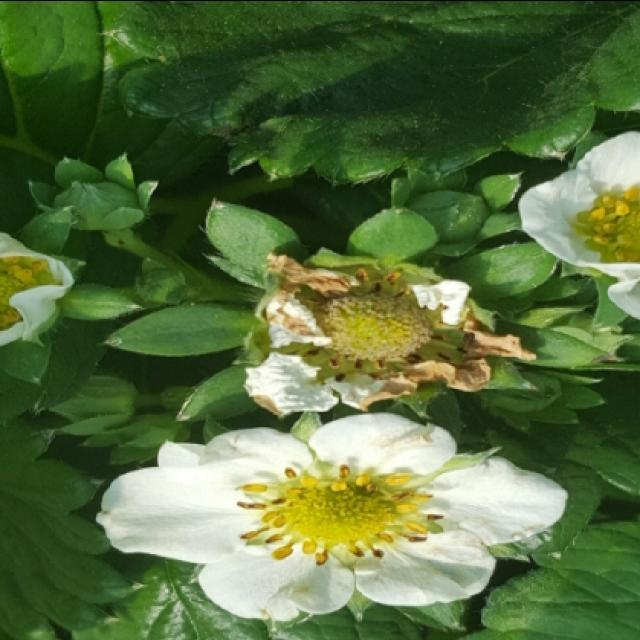Blossom Blight: (234, 462, 447, 567), (290, 263, 471, 386)
